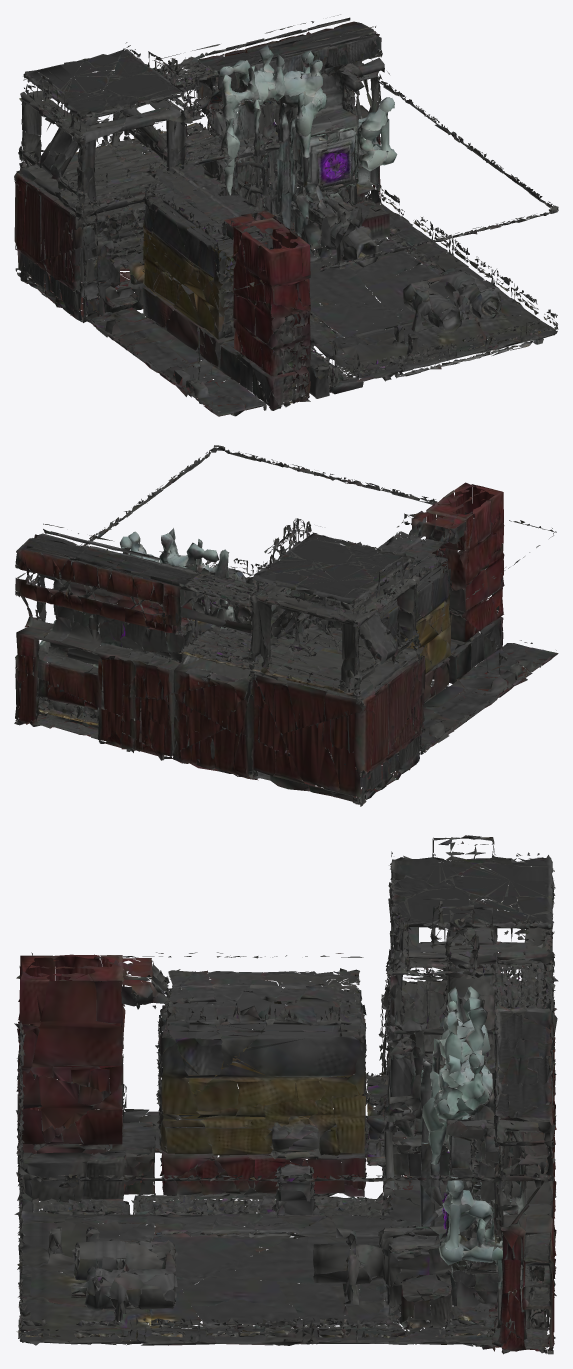
The model's file is neon_dockyard.glb.
3 renders of one model, top to bottom at view 1: azimuth 30°, elevation 25°; view 2: azimuth 150°, elevation 25°; view 3: azimuth 270°, elevation 25°, orthographic. The views are drawn at different scales.
Visible parts, largest first — view 1: Mesh_0; view 2: Mesh_0; view 3: Mesh_0.
Part boxes in pixels (left/top/right/bottom): Mesh_0: left=14, top=14, right=558, bottom=416; Mesh_0: left=14, top=445, right=558, bottom=806; Mesh_0: left=14, top=835, right=558, bottom=1354.
Bounding box in the file's own units: 1.91 × 1.19 × 1.92.
Materials: 1 (1 with a texture image).
